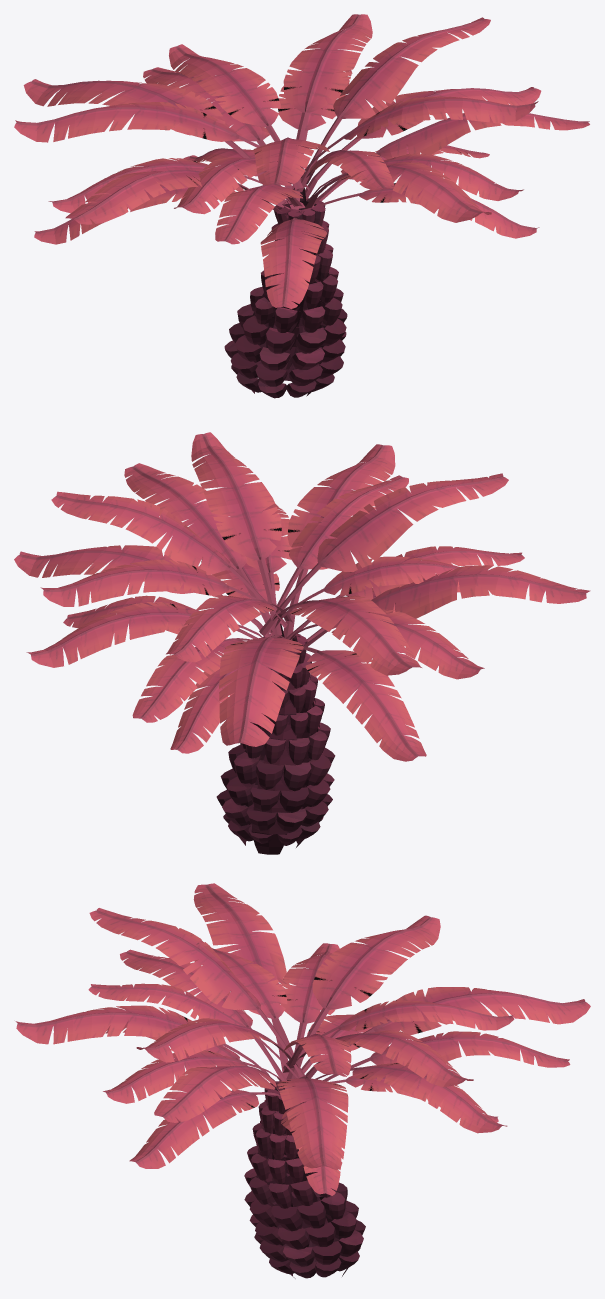
Rendered from palmA.glb.
3 renders of one model, top to bottom at view 1: azimuth 30°, elevation 25°; view 2: azimuth 150°, elevation 25°; view 3: azimuth 270°, elevation 25°, orthographic. The views are drawn at different scales.
Parts seen in each view (by area): view 1: palmLeaves, palmBase; view 2: palmLeaves, palmBase; view 3: palmLeaves, palmBase.
Part boxes in pixels (bbox=[...]): palmLeaves: bbox=[14, 14, 589, 309]; palmBase: bbox=[224, 187, 347, 398]; palmLeaves: bbox=[14, 432, 590, 761]; palmBase: bbox=[216, 623, 335, 854]; palmLeaves: bbox=[15, 883, 590, 1195]; palmBase: bbox=[244, 1080, 365, 1278].
Size of the model in its own units: 41.92 by 24.59 by 41.69.
Materials: 2 (2 with a texture image).
